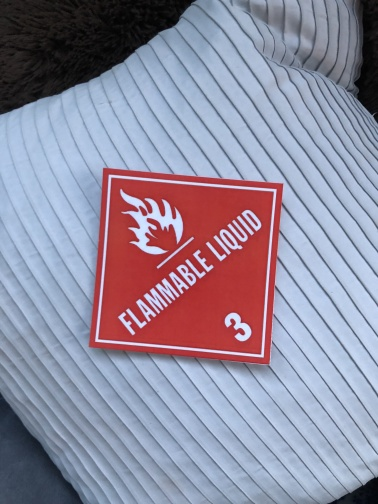FlammableLiquid: (98, 172, 279, 363)
